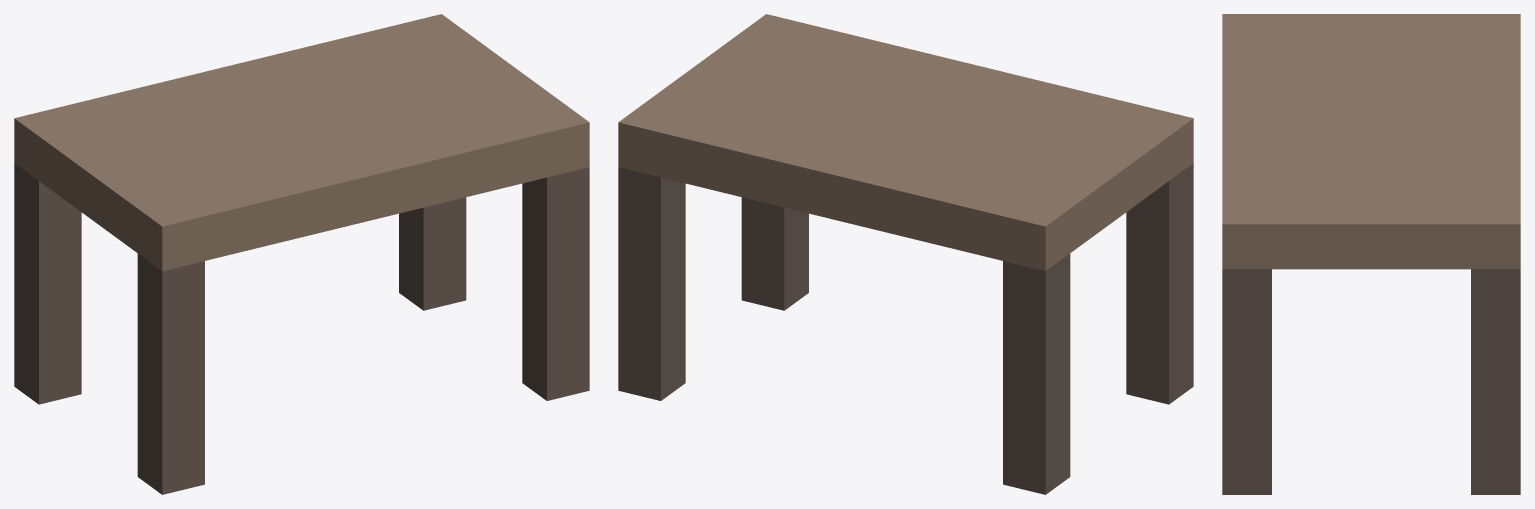
The model's file is table.glb.
3 views of the same model, side by side, from view 1: azimuth 30°, elevation 25°; view 2: azimuth 150°, elevation 25°; view 3: azimuth 270°, elevation 25° (orthographic).
Visible parts, largest first — view 1: main; view 2: main; view 3: main.
Boxes of the visible parts, <box> form: main: <box>14,14,589,494</box>; main: <box>618,14,1193,494</box>; main: <box>1222,14,1520,494</box>.
Size of the model in its own units: 1.25 by 0.75 by 0.75.
